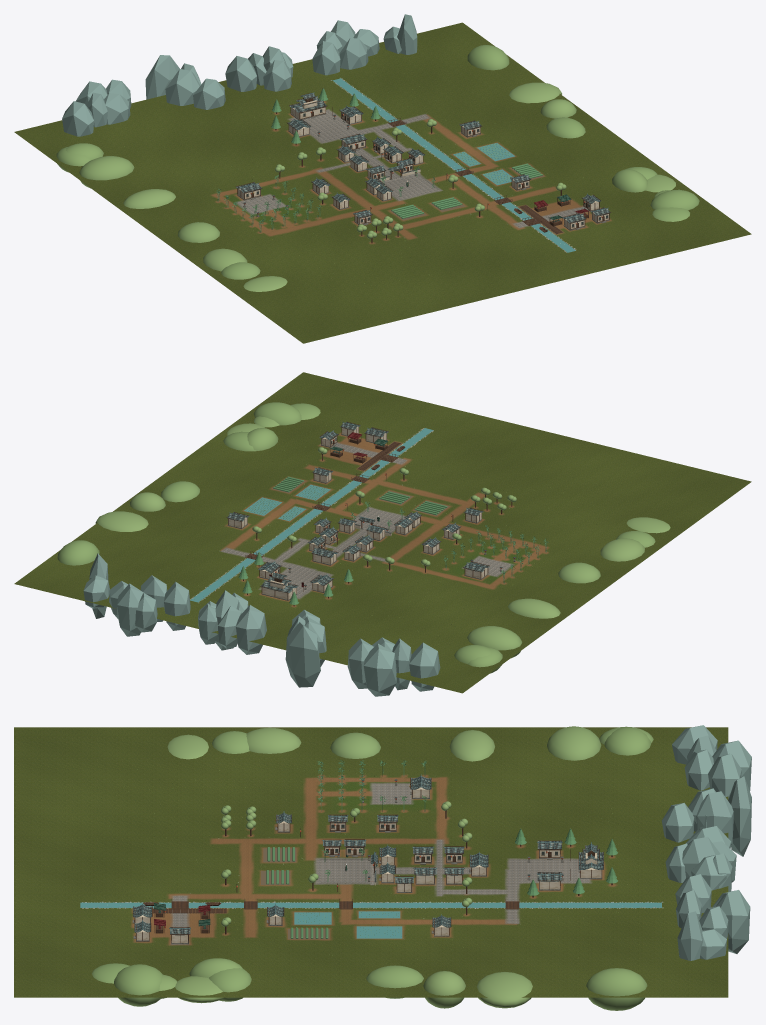
Rendered from mountain-sect.glb.
The picture shows the model from 3 angles, top to bottom: view 1: azimuth 30°, elevation 25°; view 2: azimuth 150°, elevation 25°; view 3: azimuth 270°, elevation 25°; orthographic projection. The views are drawn at different scales.
Parts seen in each view (by area): view 1: Village, Village_-3_-8_Distant_mist_stone, Village_-5_-8_Distant_mist_stone, Village_-1_-8_Distant_mist_stone, Village_0_-5_Handpainted_Wuxia_Atlas, Village_-6_-7_Distant_mist_stone, Village_-2_-7_Distant_mist_stone, Village_3_-8_Distant_mist_stone, Village_1_-7_Distant_mist_stone, Village_2_-7_Distant_mist_stone, Ground_0_5_Ground_Meadow, Ground_4_0_Ground_Meadow (+96 smaller); view 2: Village, Village_-3_-8_Distant_mist_stone, Village_-5_-8_Distant_mist_stone, Village_-1_-8_Distant_mist_stone, Village_2_-8_Distant_mist_stone, Village_0_-8_Distant_mist_stone, Village_-6_-7_Distant_mist_stone, Village_3_-8_Distant_mist_stone, Village_1_-7_Distant_mist_stone, Village_0_-5_Handpainted_Wuxia_Atlas, Village_-4_-8_Distant_mist_stone, Ground_2_5_Ground_Meadow (+84 smaller); view 3: Village, Village_-3_-8_Distant_mist_stone, Village_-5_-8_Distant_mist_stone, Village_0_-8_Distant_mist_stone, Village_2_-8_Distant_mist_stone, Village_3_-8_Distant_mist_stone, Village_0_-5_Handpainted_Wuxia_Atlas, Ground_3_-4_Ground_Meadow, Ground_3_-5_Ground_Meadow, Ground_3_-6_Ground_Meadow, Ground_2_-5_Ground_Meadow, Ground_4_0_Ground_Meadow (+170 smaller).
Part boxes in pixels (x1,y1,x2,y2): Village: [56, 45, 699, 291]; Village_-3_-8_Distant_mist_stone: [145, 55, 201, 105]; Village_-5_-8_Distant_mist_stone: [75, 81, 130, 127]; Village_-1_-8_Distant_mist_stone: [225, 53, 266, 91]; Village_0_-5_Handpainted_Wuxia_Atlas: [291, 93, 363, 124]; Village_-6_-7_Distant_mist_stone: [62, 101, 93, 136]; Village_-2_-7_Distant_mist_stone: [193, 78, 225, 109]; Village_3_-8_Distant_mist_stone: [353, 26, 401, 56]; Village_1_-7_Distant_mist_stone: [312, 41, 340, 75]; Village_2_-7_Distant_mist_stone: [339, 38, 368, 69]; Ground_0_5_Ground_Meadow: [509, 252, 563, 275]; Ground_4_0_Ground_Meadow: [548, 144, 601, 167]; Village: [57, 402, 670, 673]; Village_-3_-8_Distant_mist_stone: [285, 616, 326, 687]; Village_-5_-8_Distant_mist_stone: [363, 637, 411, 696]; Village_-1_-8_Distant_mist_stone: [218, 605, 266, 654]; Village_2_-8_Distant_mist_stone: [117, 583, 157, 636]; Village_0_-8_Distant_mist_stone: [198, 590, 239, 650]; Village_-6_-7_Distant_mist_stone: [409, 642, 440, 691]; Village_3_-8_Distant_mist_stone: [83, 575, 127, 618]; Village_1_-7_Distant_mist_stone: [164, 581, 190, 630]; Village_0_-5_Handpainted_Wuxia_Atlas: [258, 562, 298, 600]; Village_-4_-8_Distant_mist_stone: [347, 638, 373, 688]; Ground_2_5_Ground_Meadow: [375, 407, 429, 430]; Village: [92, 726, 653, 1010]; Village_-3_-8_Distant_mist_stone: [688, 776, 751, 856]; Village_-5_-8_Distant_mist_stone: [684, 735, 751, 790]; Village_0_-8_Distant_mist_stone: [682, 836, 732, 891]; Village_2_-8_Distant_mist_stone: [712, 890, 750, 953]; Village_3_-8_Distant_mist_stone: [699, 906, 728, 959]; Village_0_-5_Handpainted_Wuxia_Atlas: [537, 844, 602, 890]; Ground_3_-4_Ground_Meadow: [495, 934, 545, 955]; Ground_3_-5_Ground_Meadow: [545, 934, 595, 955]; Ground_3_-6_Ground_Meadow: [595, 934, 645, 955]; Ground_2_-5_Ground_Meadow: [545, 913, 595, 934]; Ground_4_0_Ground_Meadow: [296, 955, 346, 976].
Bounding box in the file's own units: 156 × 20.94 × 178.
Materials: 23 (4 with a texture image).
